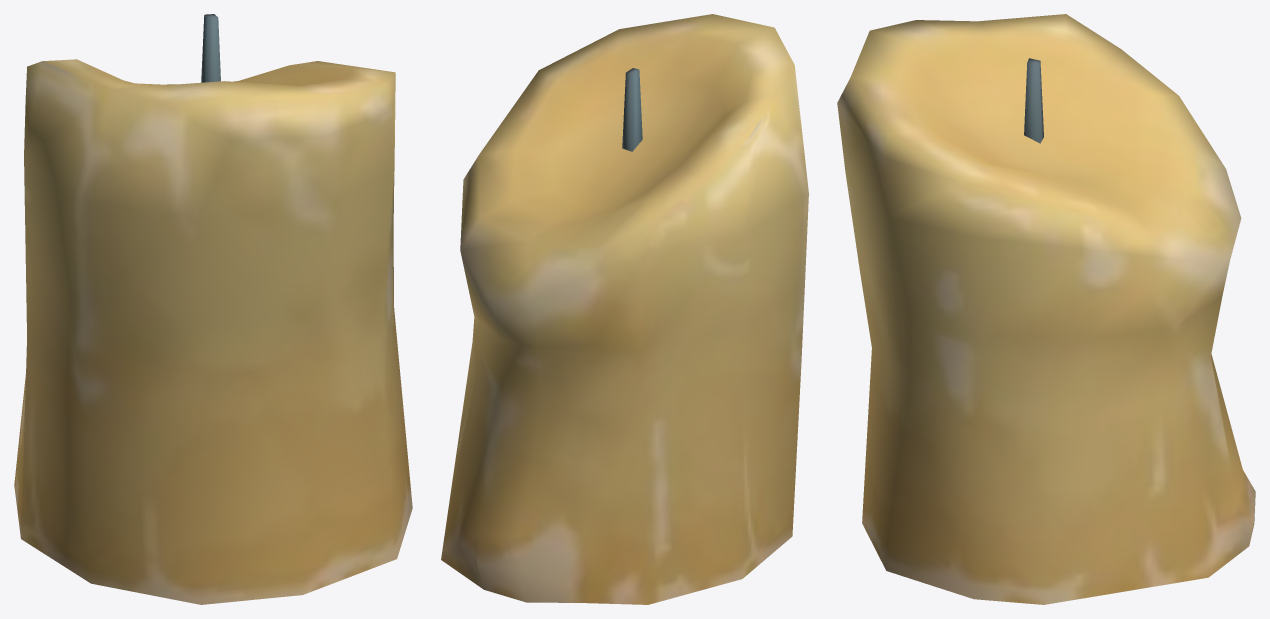
File: Candle_1.gltf
3 views of the same model, side by side, from view 1: azimuth 30°, elevation 25°; view 2: azimuth 150°, elevation 25°; view 3: azimuth 270°, elevation 25° (orthographic). The views are drawn at different scales.
Parts seen in each view (by area): view 1: Candle_1; view 2: Candle_1; view 3: Candle_1.
Part boxes in pixels (left/top/right/bottom): Candle_1: left=14, top=14, right=412, bottom=604; Candle_1: left=441, top=14, right=808, bottom=604; Candle_1: left=837, top=14, right=1255, bottom=604.
Bounding box in the file's own units: 0.0939 × 0.132 × 0.1079.
1 material, 1 textured.
